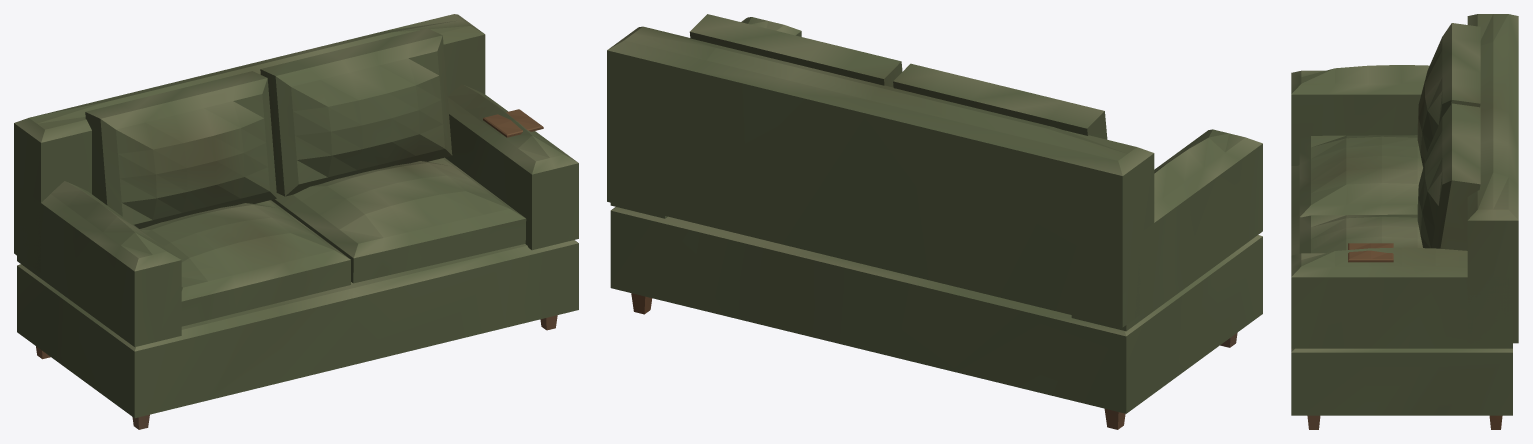
Rendered from old_sofa_01.glb.
3 renders of one model, left to right at view 1: azimuth 30°, elevation 25°; view 2: azimuth 150°, elevation 25°; view 3: azimuth 270°, elevation 25°, orthographic. The views are drawn at different scales.
Visible parts, largest first — view 1: old_sofa_01_fabric; view 2: old_sofa_01_fabric, old_sofa_01_legs; view 3: old_sofa_01_fabric, old_sofa_01_legs.
Boxes of the visible parts, x1,y1,x2,y2 form: old_sofa_01_fabric: [14, 14, 578, 418]; old_sofa_01_fabric: [607, 14, 1262, 413]; old_sofa_01_legs: [631, 293, 1237, 429]; old_sofa_01_fabric: [1291, 14, 1518, 415]; old_sofa_01_legs: [1307, 415, 1502, 429].
Bounding box in the file's own units: 1.7 × 0.9017 × 0.8.
